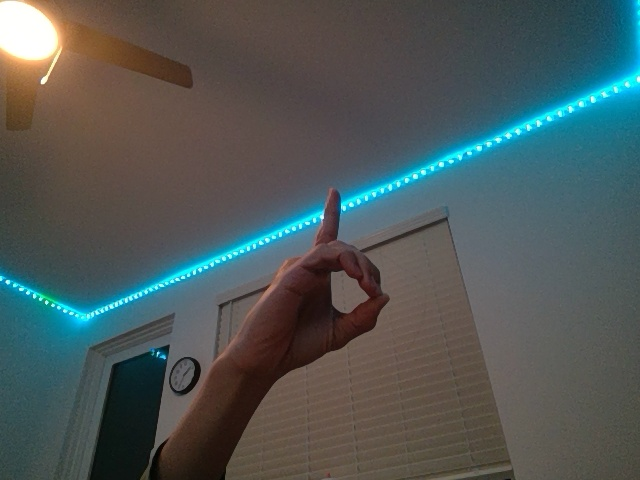d: (236, 187, 390, 388)
